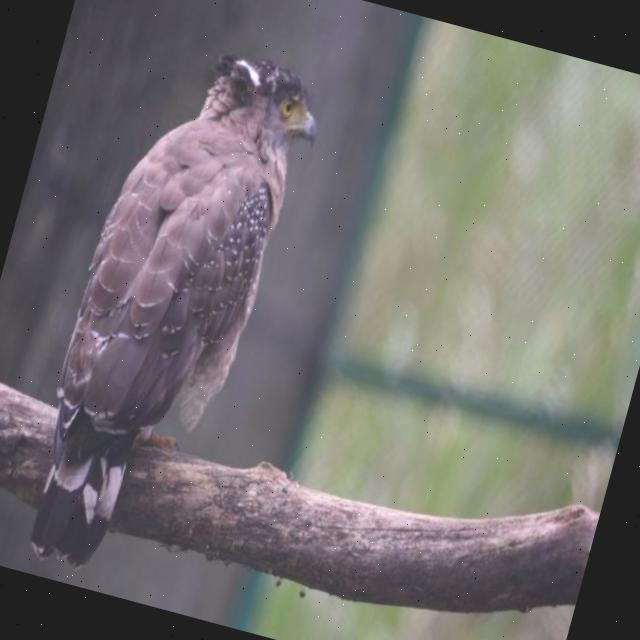Elang Jawa: (0, 0, 352, 608)
